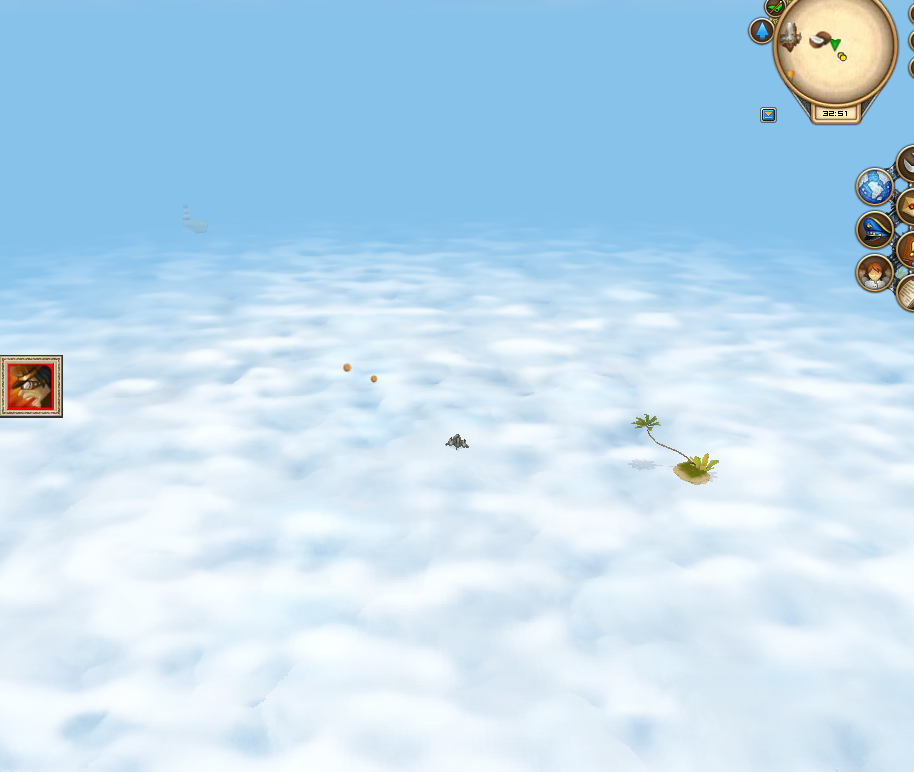coconut: (367, 371, 381, 386), (341, 363, 351, 373)
palm: (628, 410, 720, 487)
